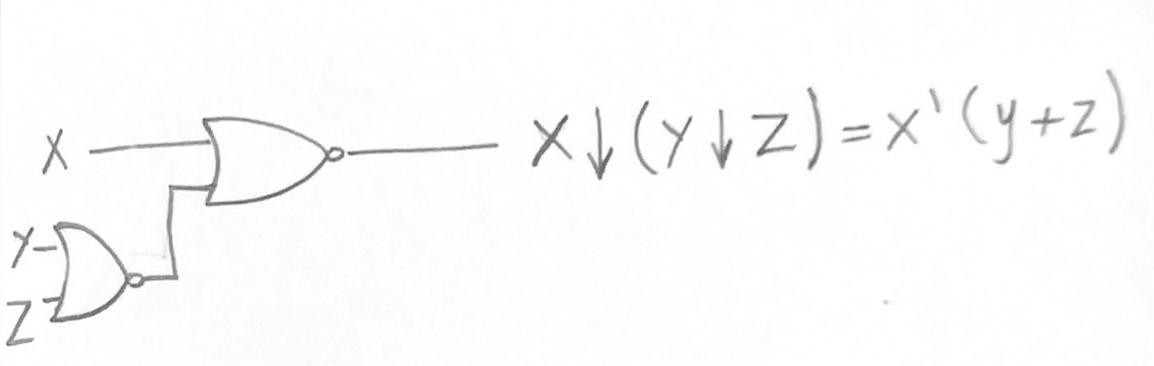NOR: (189, 107, 363, 214), (42, 213, 157, 329)
